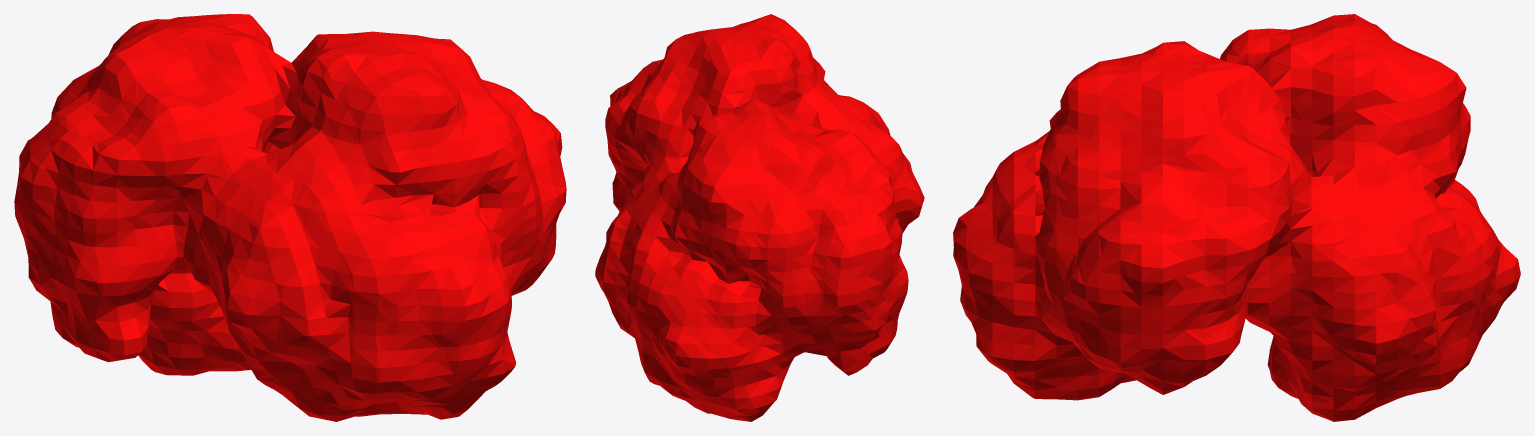
Rendered from thiB_coarse.dae.
3 views of the same model, side by side, from view 1: azimuth 30°, elevation 25°; view 2: azimuth 150°, elevation 25°; view 3: azimuth 270°, elevation 25° (orthographic). The views are drawn at different scales.
Visible parts, largest first — view 1: thiB; view 2: thiB; view 3: thiB.
Boxes of the visible parts, x1,y1,x2,y2 form: thiB: (14, 14, 566, 421); thiB: (595, 14, 924, 421); thiB: (953, 14, 1520, 421).
Bounding box in the file's own units: 94.5 × 77.18 × 105.
